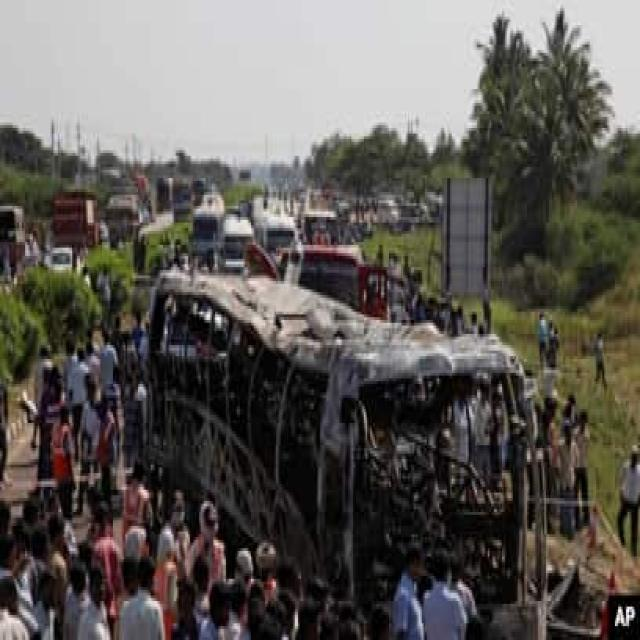accident: (150, 276, 529, 609)
